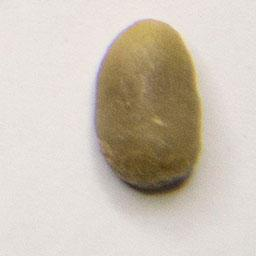longberry: (90, 15, 206, 195)
